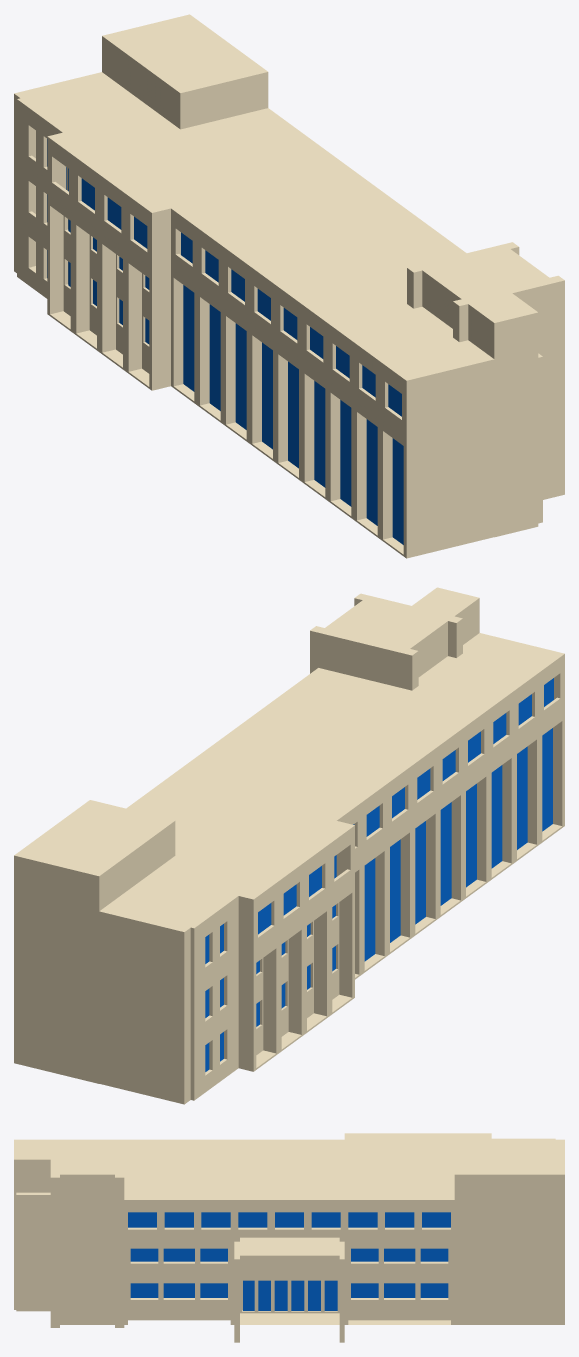
File: 디자인연구관.fbx
3 renders of one model, top to bottom at view 1: azimuth 30°, elevation 25°; view 2: azimuth 150°, elevation 25°; view 3: azimuth 270°, elevation 25°, orthographic. The views are drawn at different scales.
Parts seen in each view (by area): view 1: Cube, Cube_115, Cube_118, inside; view 2: Cube, Cube_115, Cube_118, Cube_116; view 3: Cube, Cube_96, inside, Cube_98, Cube_97, Cube_99.
Boxes of the visible parts, x1,y1,x2,y2 form: Cube: [14, 14, 564, 558]; Cube_115: [181, 232, 403, 544]; Cube_118: [68, 168, 149, 344]; inside: [67, 167, 542, 523]; Cube: [14, 587, 564, 1104]; Cube_115: [336, 678, 553, 961]; Cube_118: [256, 855, 336, 1026]; Cube_116: [205, 924, 223, 1071]; Cube: [14, 1133, 564, 1342]; Cube_96: [128, 1212, 450, 1227]; inside: [16, 1192, 242, 1311]; Cube_98: [351, 1248, 448, 1297]; Cube_97: [130, 1248, 227, 1297]; Cube_99: [243, 1280, 337, 1310].
Size of the model in its own units: 367 by 304 by 1011.
